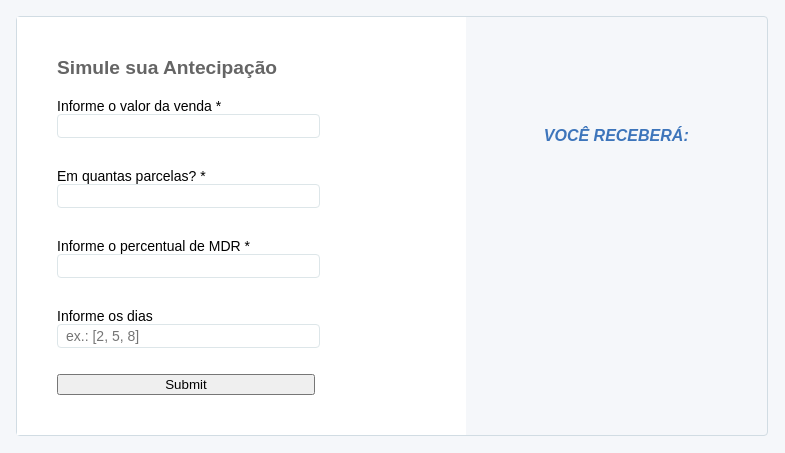
Test: Anticipation calculator › Teste de cálculo de antecipação com valor de venda maior que R$ 10000000,00
Type "10000000000000" into the field named "amount" at (189, 126), box [57,114,320,138]
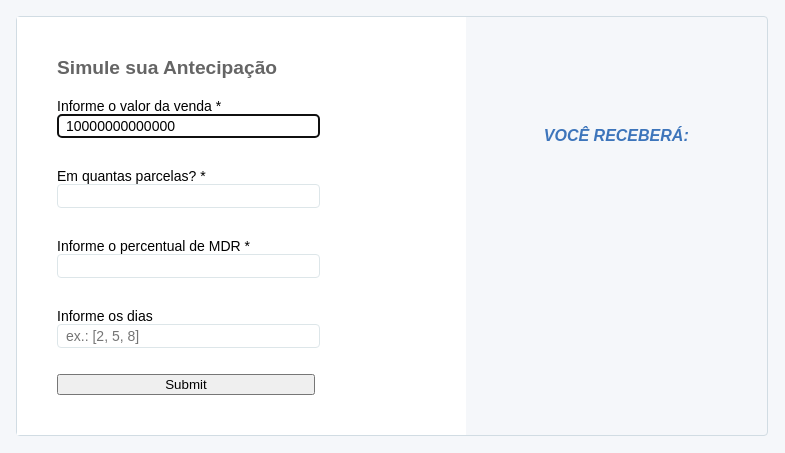
Type "3" into the number field named "installments" below "Em quantas parcelas? *" at (189, 196), box [57,184,320,208]
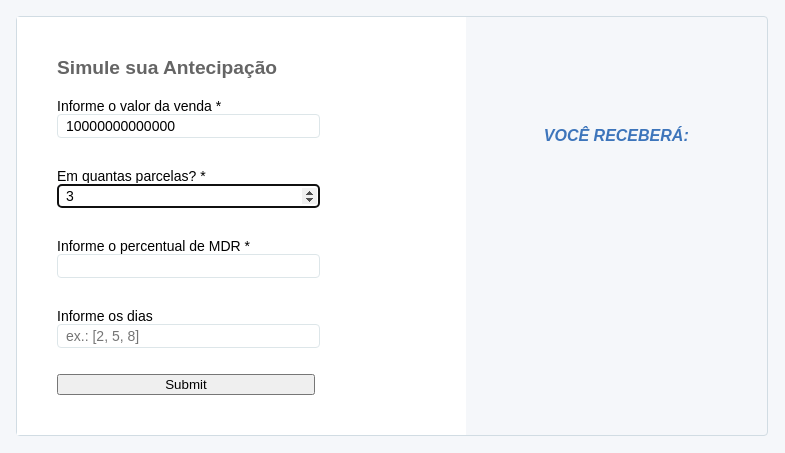
Type "4" into the number field named "mdr" below "Informe o percentual de MDR *" at (189, 266), box [57,254,320,278]
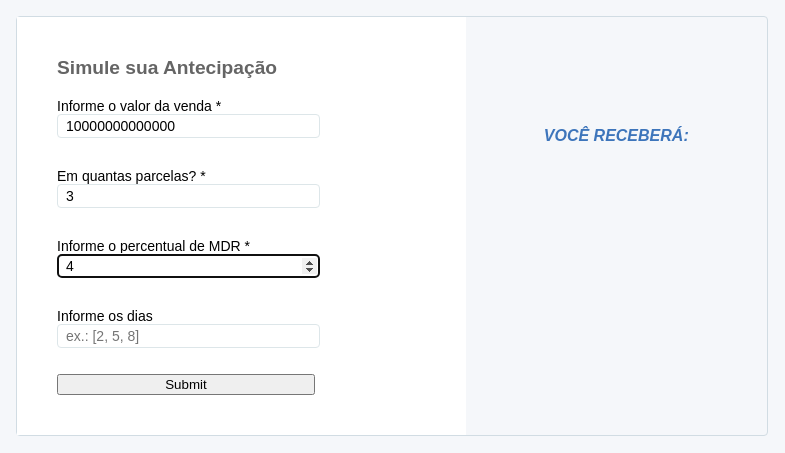
Click the button with class "calcular" at (186, 385), box [57,374,315,395]
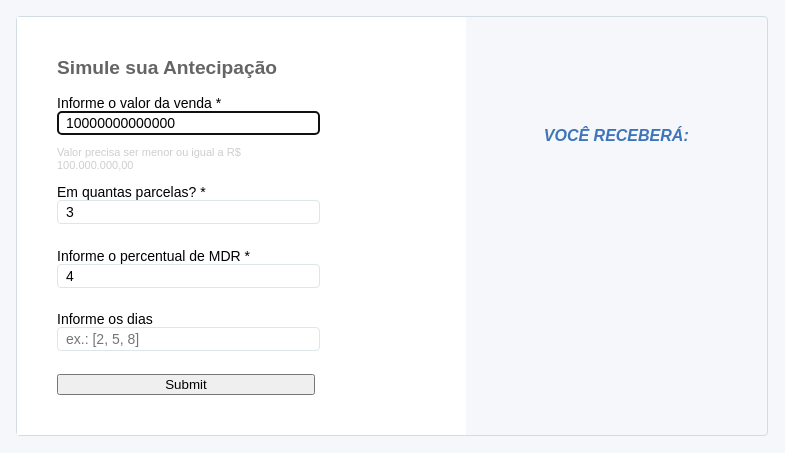
Expected: the text "Valor precisa ser menor ou igual a R$ 100.000.000,00" is shown, [57,146,241,171]
